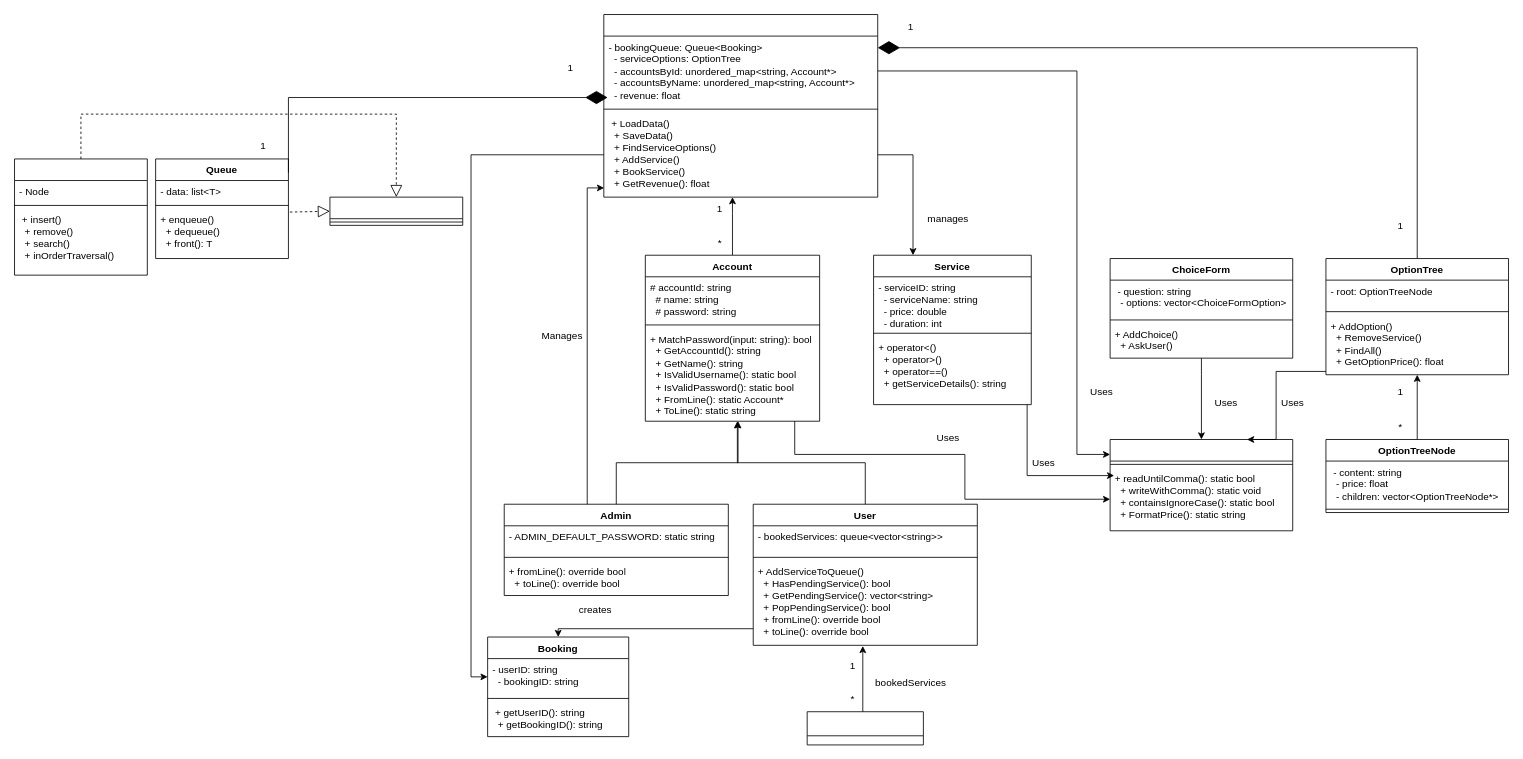
Image size: 1523x759. Some labels were removed from this diagram. Here are the shapes that lost their labels. From the top down, the box of each, then its label:
(603, 14, 878, 197): CarWashStation
(14, 158, 147, 275): BST
(329, 196, 463, 225): Generic
(1109, 439, 1293, 531): Util
(806, 711, 923, 745): Vector<string>
